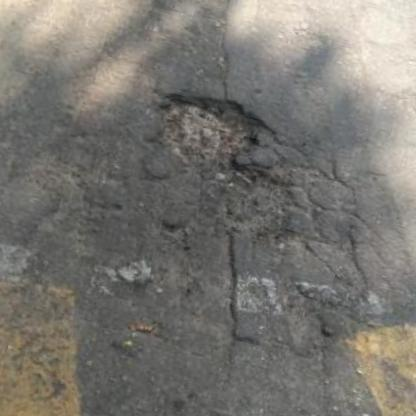pothole: (132, 78, 282, 189), (202, 154, 305, 247), (268, 285, 342, 368)
